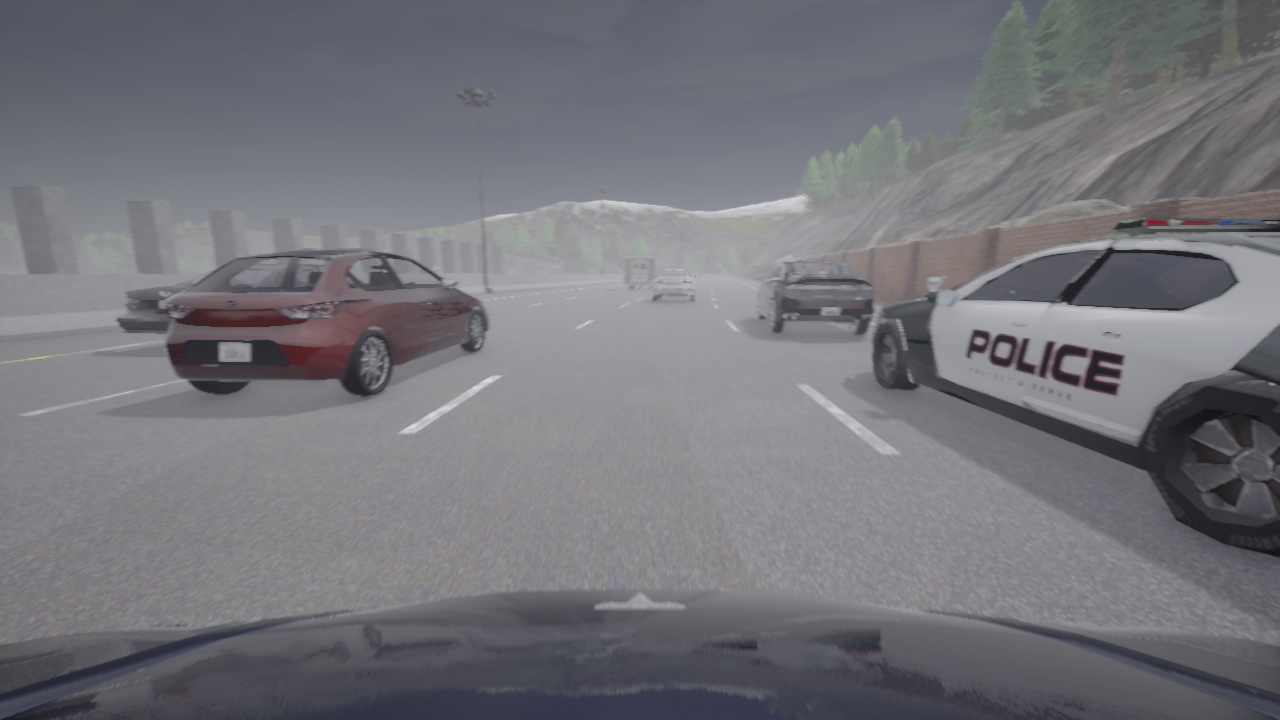cyclist: (0, 588, 1279, 719), (871, 218, 1279, 558), (165, 249, 489, 396), (756, 260, 874, 335), (116, 272, 210, 334), (652, 268, 697, 302), (624, 257, 662, 289)
